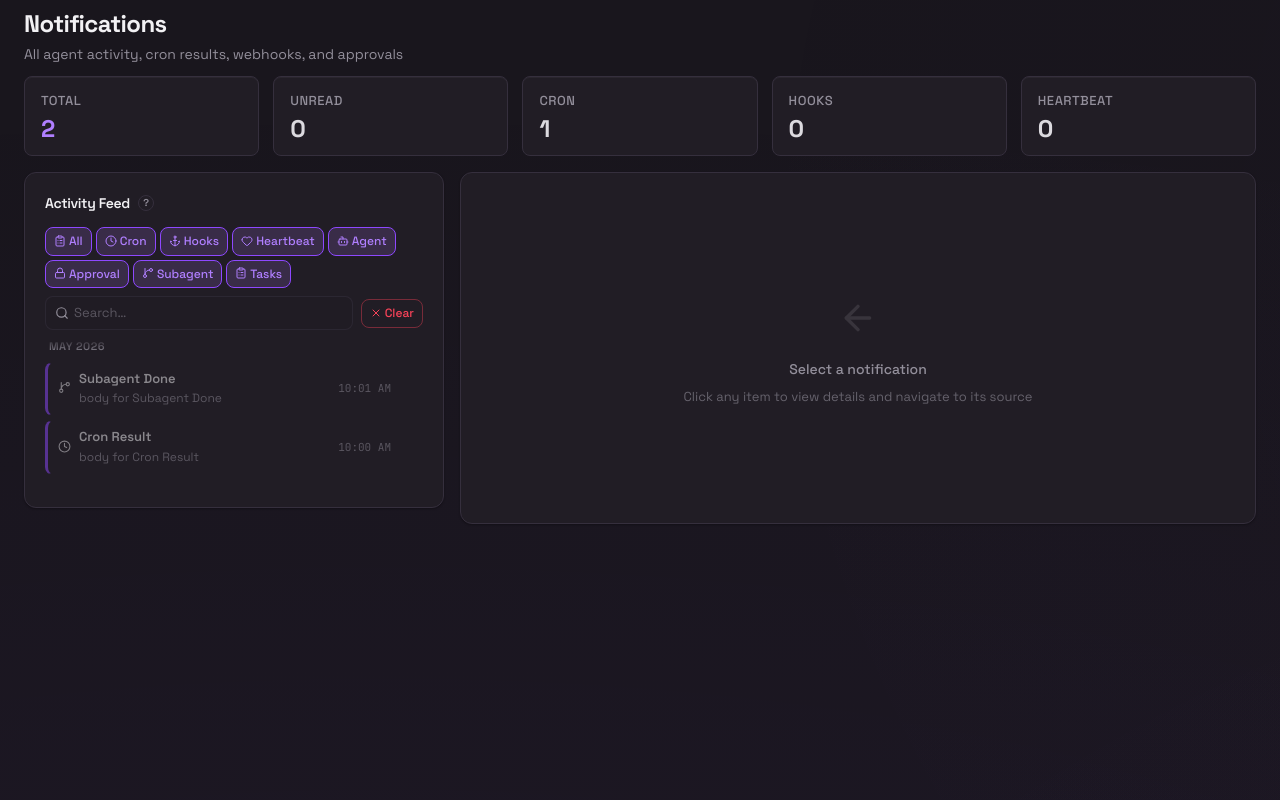
Test case: NotificationsPage multi-select filter › clicking All when none are selected re-selects every category
What coordinates should you click on to do the following:
click the button "All"
I would click on:
 (68, 241)
Its box is [45,227,92,256].
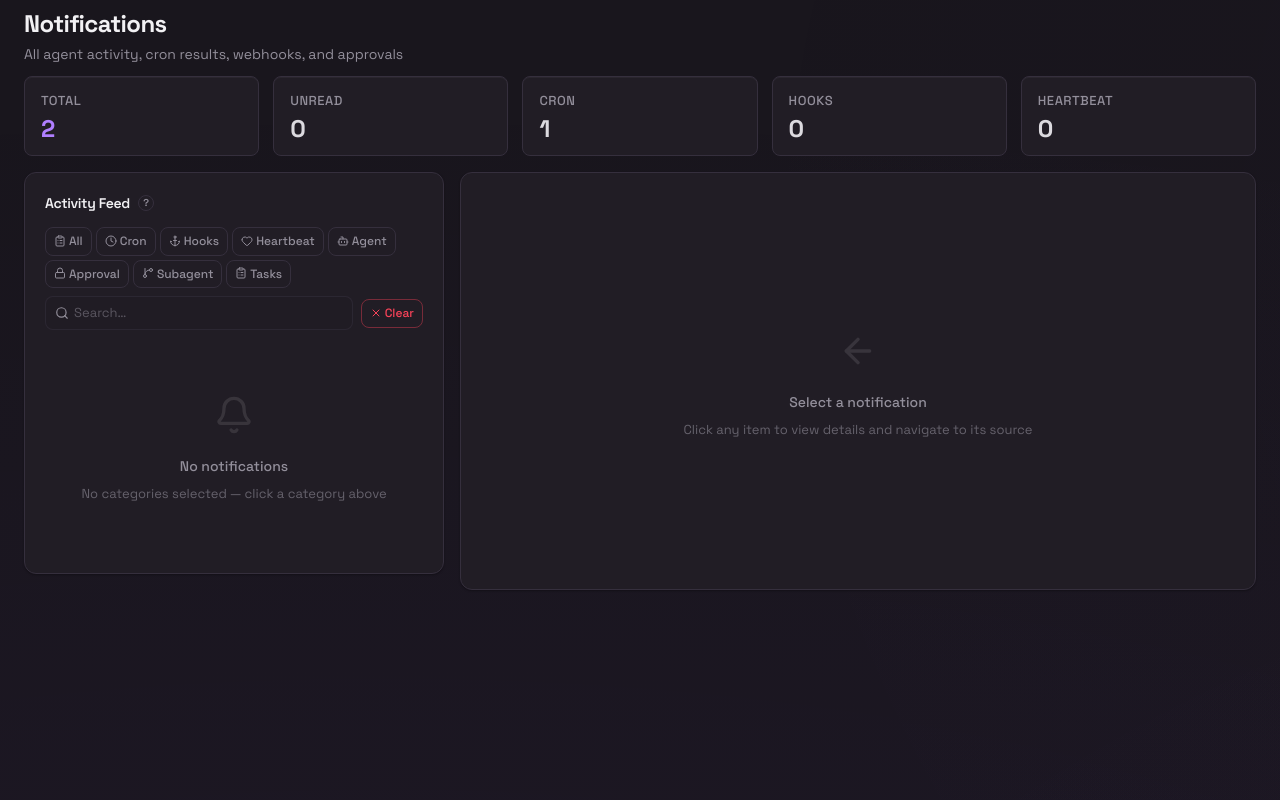
What coordinates should you click on to do the following:
click the button "All"
I would click on:
 (68, 241)
Its box is [45,227,92,256].
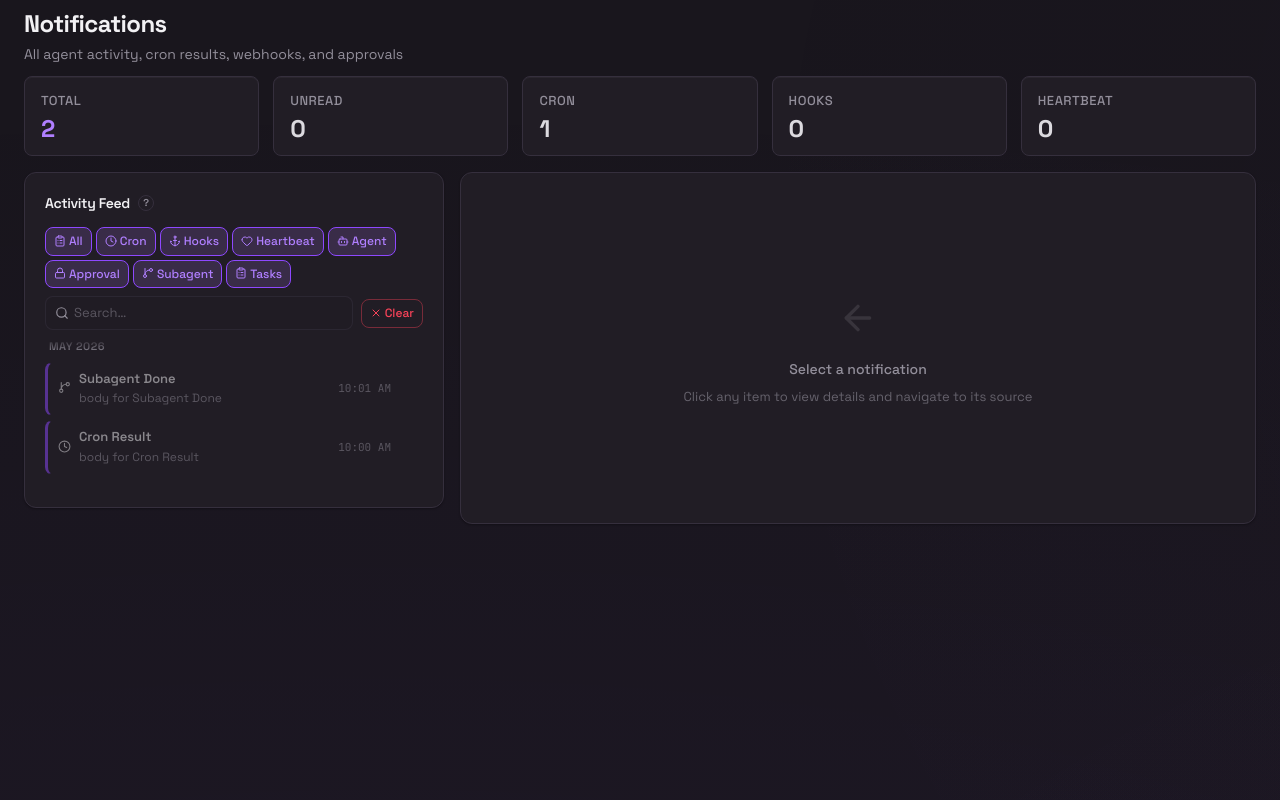
Now the text "Cron Result" is shown, box [79,428,151,445]
Now the text "Subagent Done" is shown, box [79,370,176,386]
